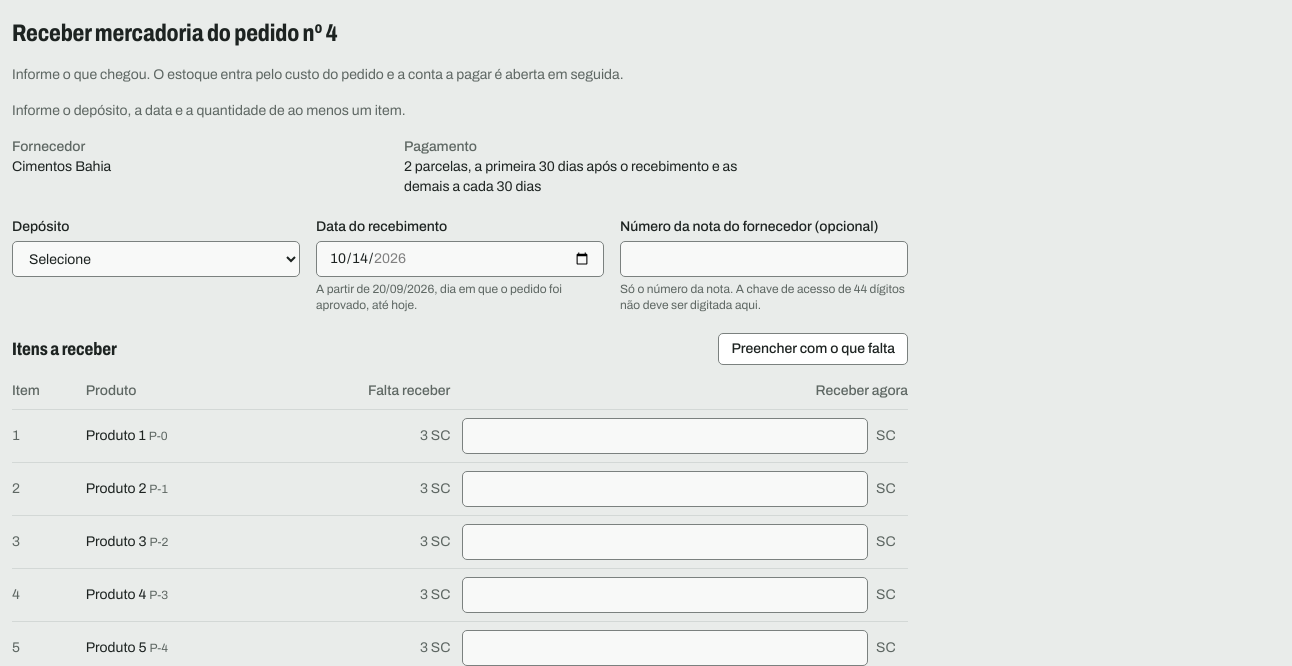
Test: ReceiveGoodsScreen › fills only as many lines as one receipt takes, and says the rest goes in another
Click the button "Preencher com o que falta" at coordinates (813, 349), box [718,333,908,365]
(page scrolled)
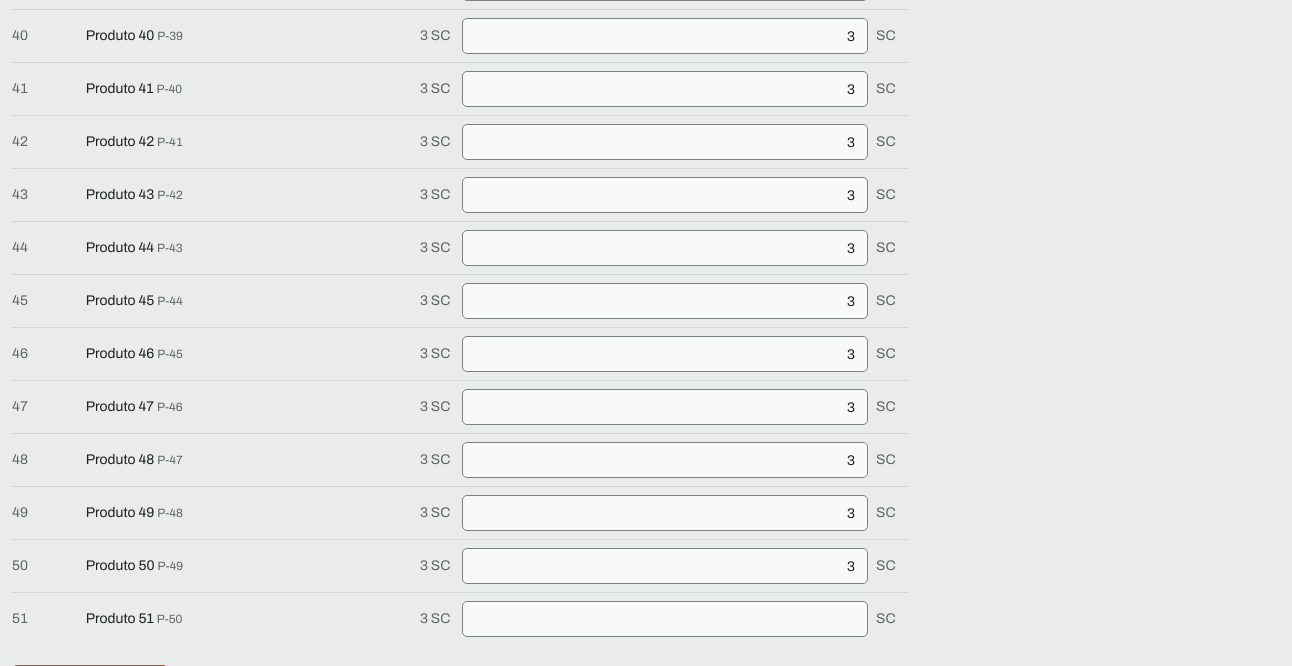
Expected: the field named "Quantidade a receber, item 51: Produto 51" is empty, [462,601,868,637]
Expected: the field named "Quantidade a receber, item 50: Produto 50" holds "3", [462,548,868,584]
